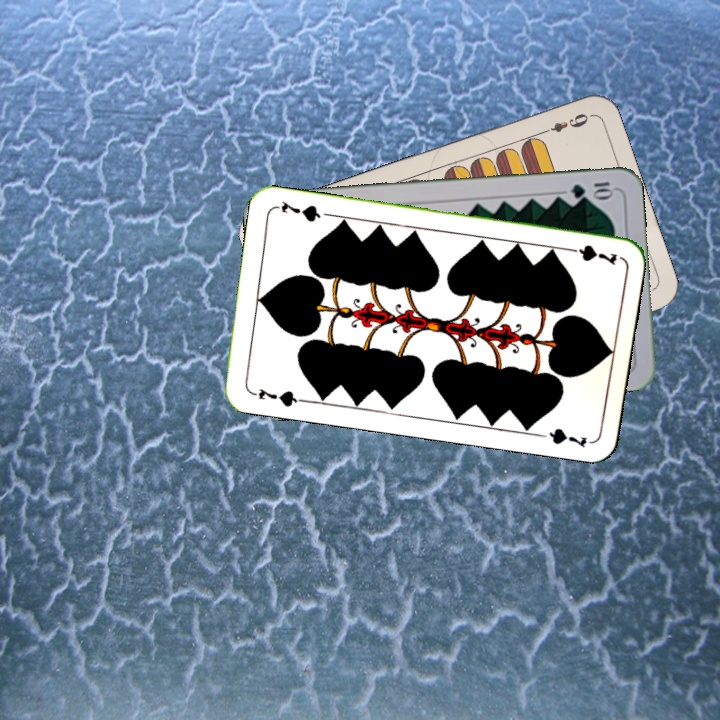E9: (536, 109, 593, 137)
G10: (567, 178, 616, 201)
G7: (561, 241, 620, 267), (247, 384, 306, 410)
